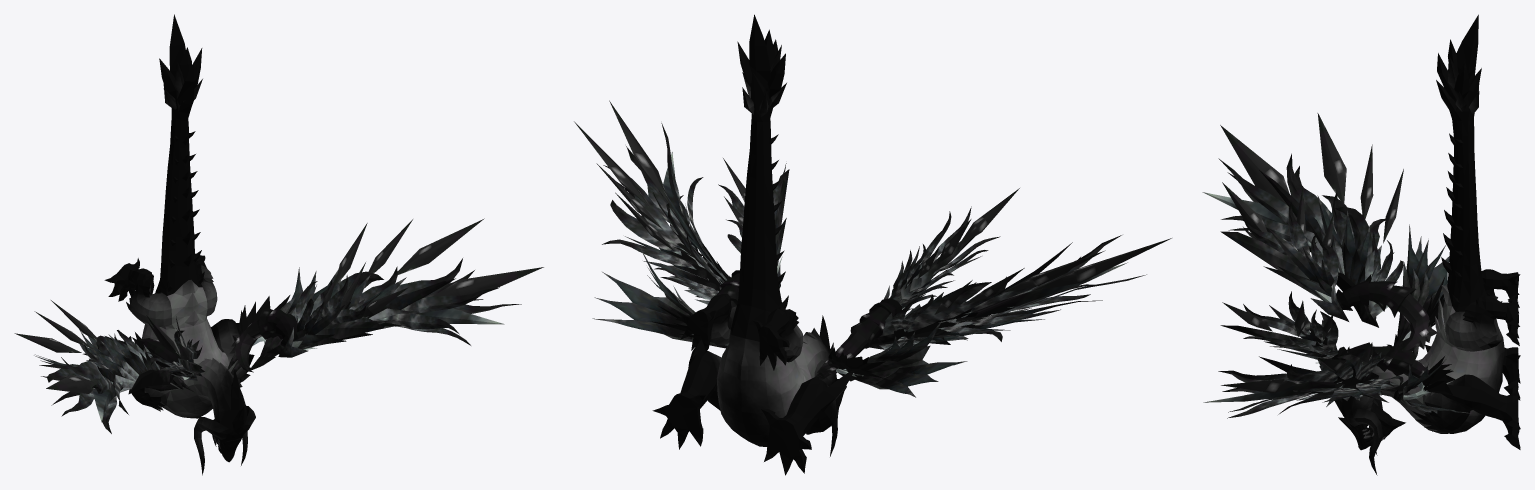
File: dragonfrost_1.obj
3 views of the same model, side by side, from view 1: azimuth 30°, elevation 25°; view 2: azimuth 150°, elevation 25°; view 3: azimuth 270°, elevation 25° (orthographic). The views are drawn at different scales.
Visible parts, largest first — view 1: DragonFrost_1chibang, DragonFrost_1; view 2: DragonFrost_1chibang, DragonFrost_1; view 3: DragonFrost_1chibang, DragonFrost_1.
Boxes of the visible parts, <box> form: DragonFrost_1chibang: <box>14,218,543,433</box>; DragonFrost_1: <box>104,14,255,475</box>; DragonFrost_1chibang: <box>574,100,1171,397</box>; DragonFrost_1: <box>652,14,853,475</box>; DragonFrost_1chibang: <box>1202,113,1477,418</box>; DragonFrost_1: <box>1335,14,1520,475</box>.
Bounding box in the file's own units: 417 × 337 × 215.
3 materials, 3 textured.
